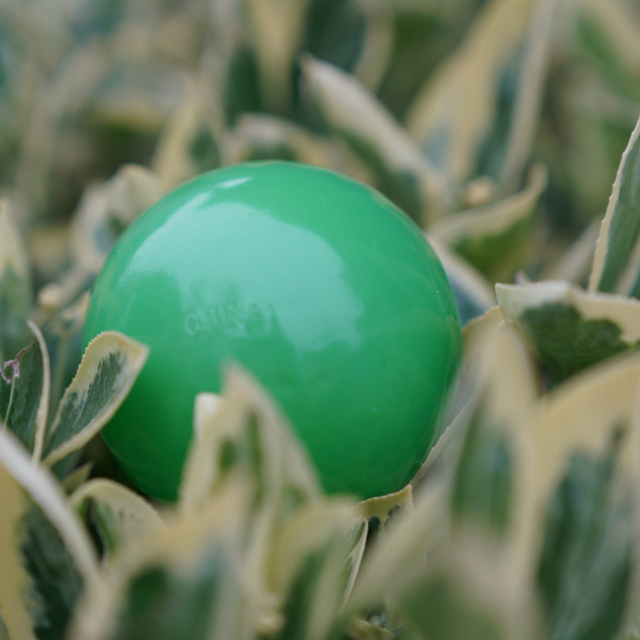Ball: (84, 163, 469, 508)
